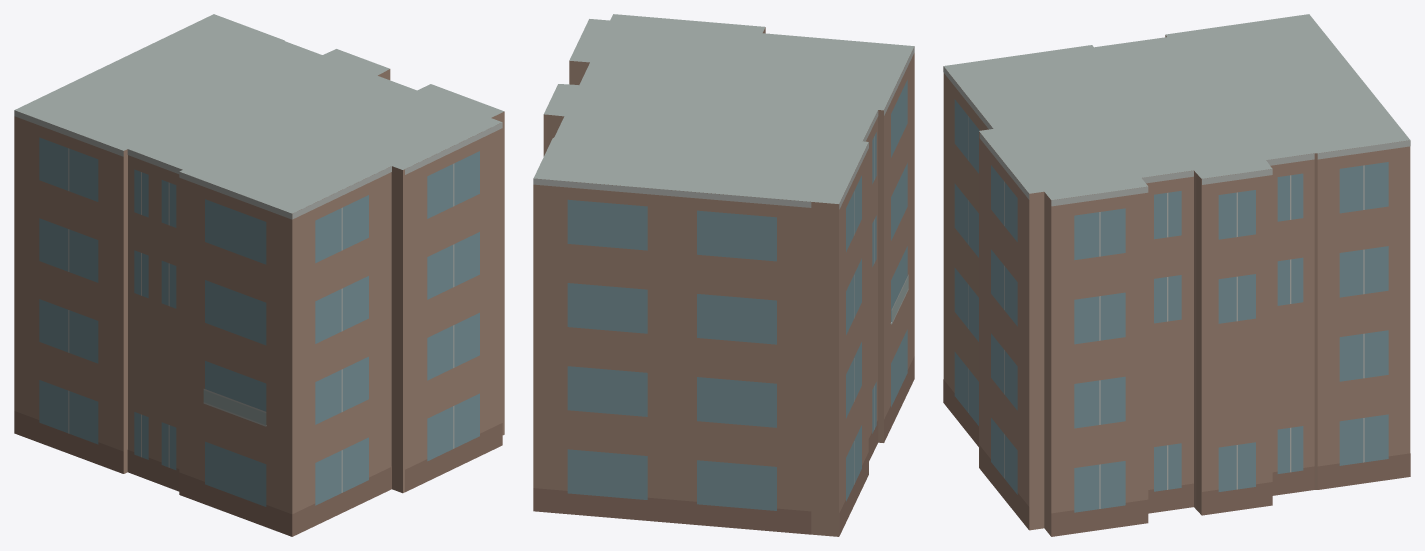
The model's file is survey-upis-32939614.glb.
The picture shows the model from 3 angles, left to right: view 1: azimuth 30°, elevation 25°; view 2: azimuth 150°, elevation 25°; view 3: azimuth 270°, elevation 25°; orthographic projection. The views are drawn at different scales.
Visible parts, largest first — view 1: survey-upis-32939614.tmp; view 2: survey-upis-32939614.tmp; view 3: survey-upis-32939614.tmp.
Part boxes in pixels (bbox=[...]): survey-upis-32939614.tmp: bbox=[14, 14, 504, 536]; survey-upis-32939614.tmp: bbox=[533, 14, 914, 536]; survey-upis-32939614.tmp: bbox=[943, 14, 1410, 536].
Size of the model in its own units: 15.67 by 13.2 by 16.61.
